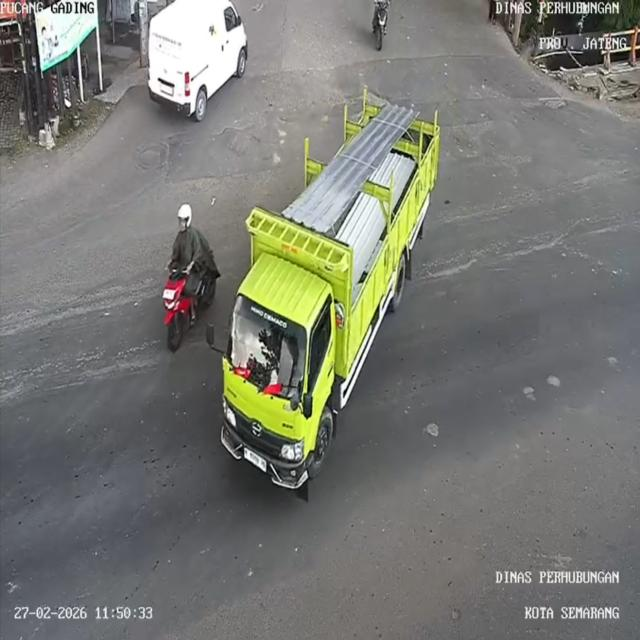motorcycle: (161, 254, 199, 350), (367, 2, 393, 56)
person: (165, 204, 203, 287)
rider_region: (159, 198, 220, 350)
